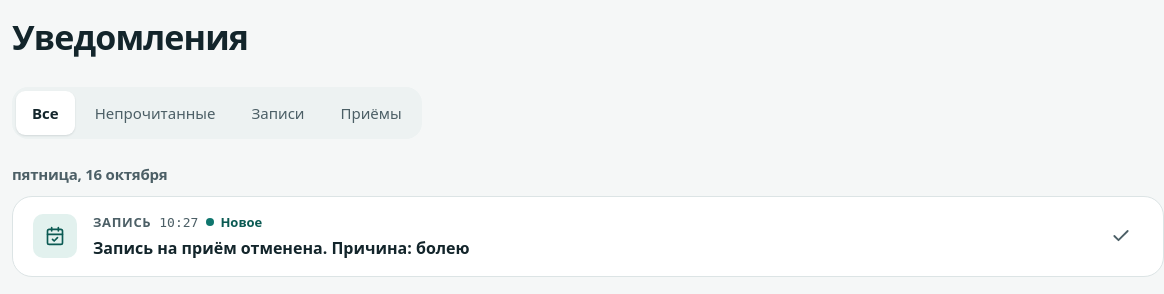
NotificationCenter › should mark the notification read, refresh the list and the counter, announce it and keep the focus in the list
The image size is (1164, 294).
Click the button named "Отметить прочитанным". click: (1121, 236)
box: x1=1099 y1=214 x2=1143 y2=258
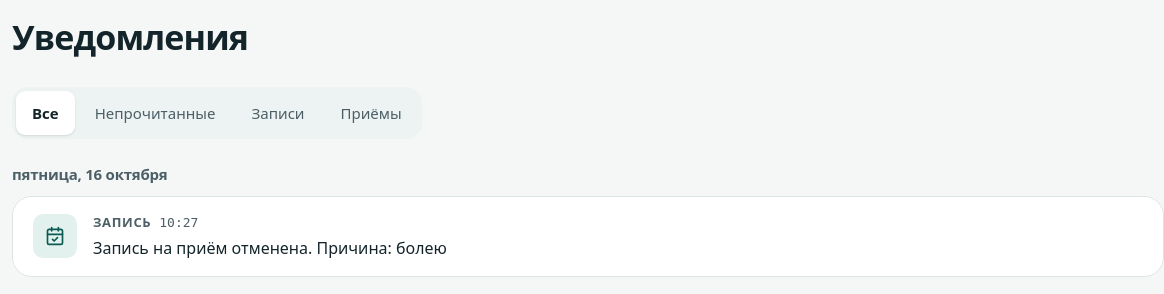
Result: the text "Новое" is gone
